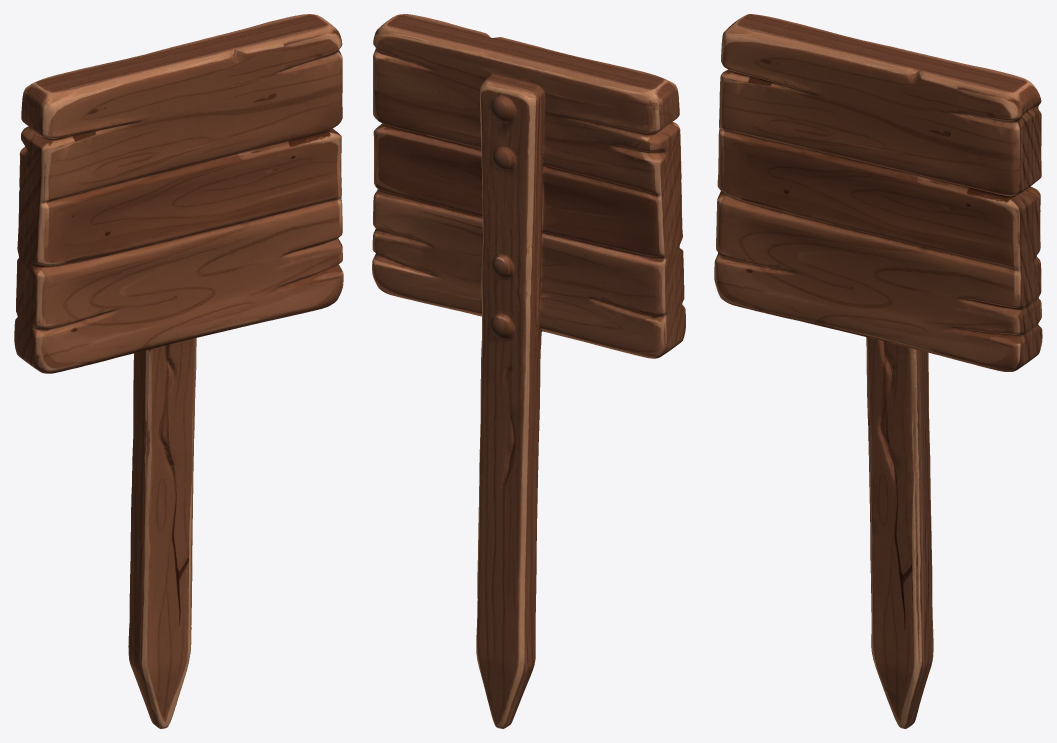
Rendered from signboard.glb.
3 views of the same model, side by side, from view 1: azimuth 30°, elevation 25°; view 2: azimuth 150°, elevation 25°; view 3: azimuth 330°, elevation 25° (orthographic). The views are drawn at different scales.
Size of the model in its own units: 0.8898 by 1.9 by 0.2201.
Materials: 1 (1 with a texture image).
